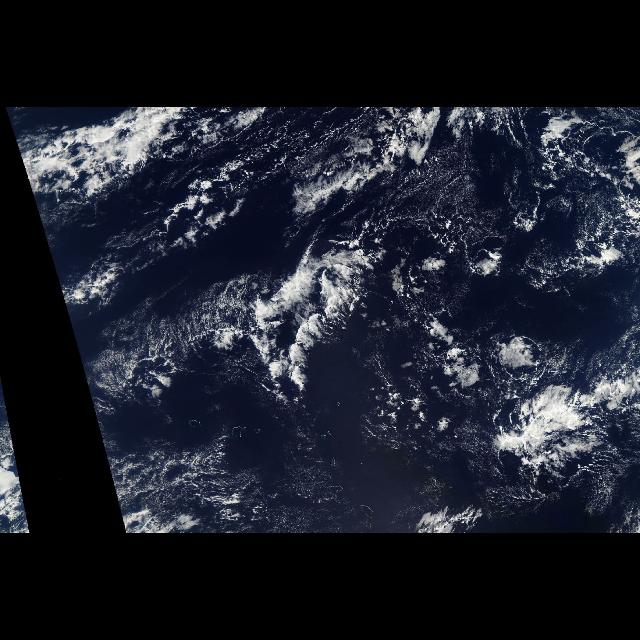Flower: (481, 366, 637, 482)
Gravel: (378, 111, 638, 413), (130, 328, 242, 399)
Sugar: (114, 404, 358, 532)
